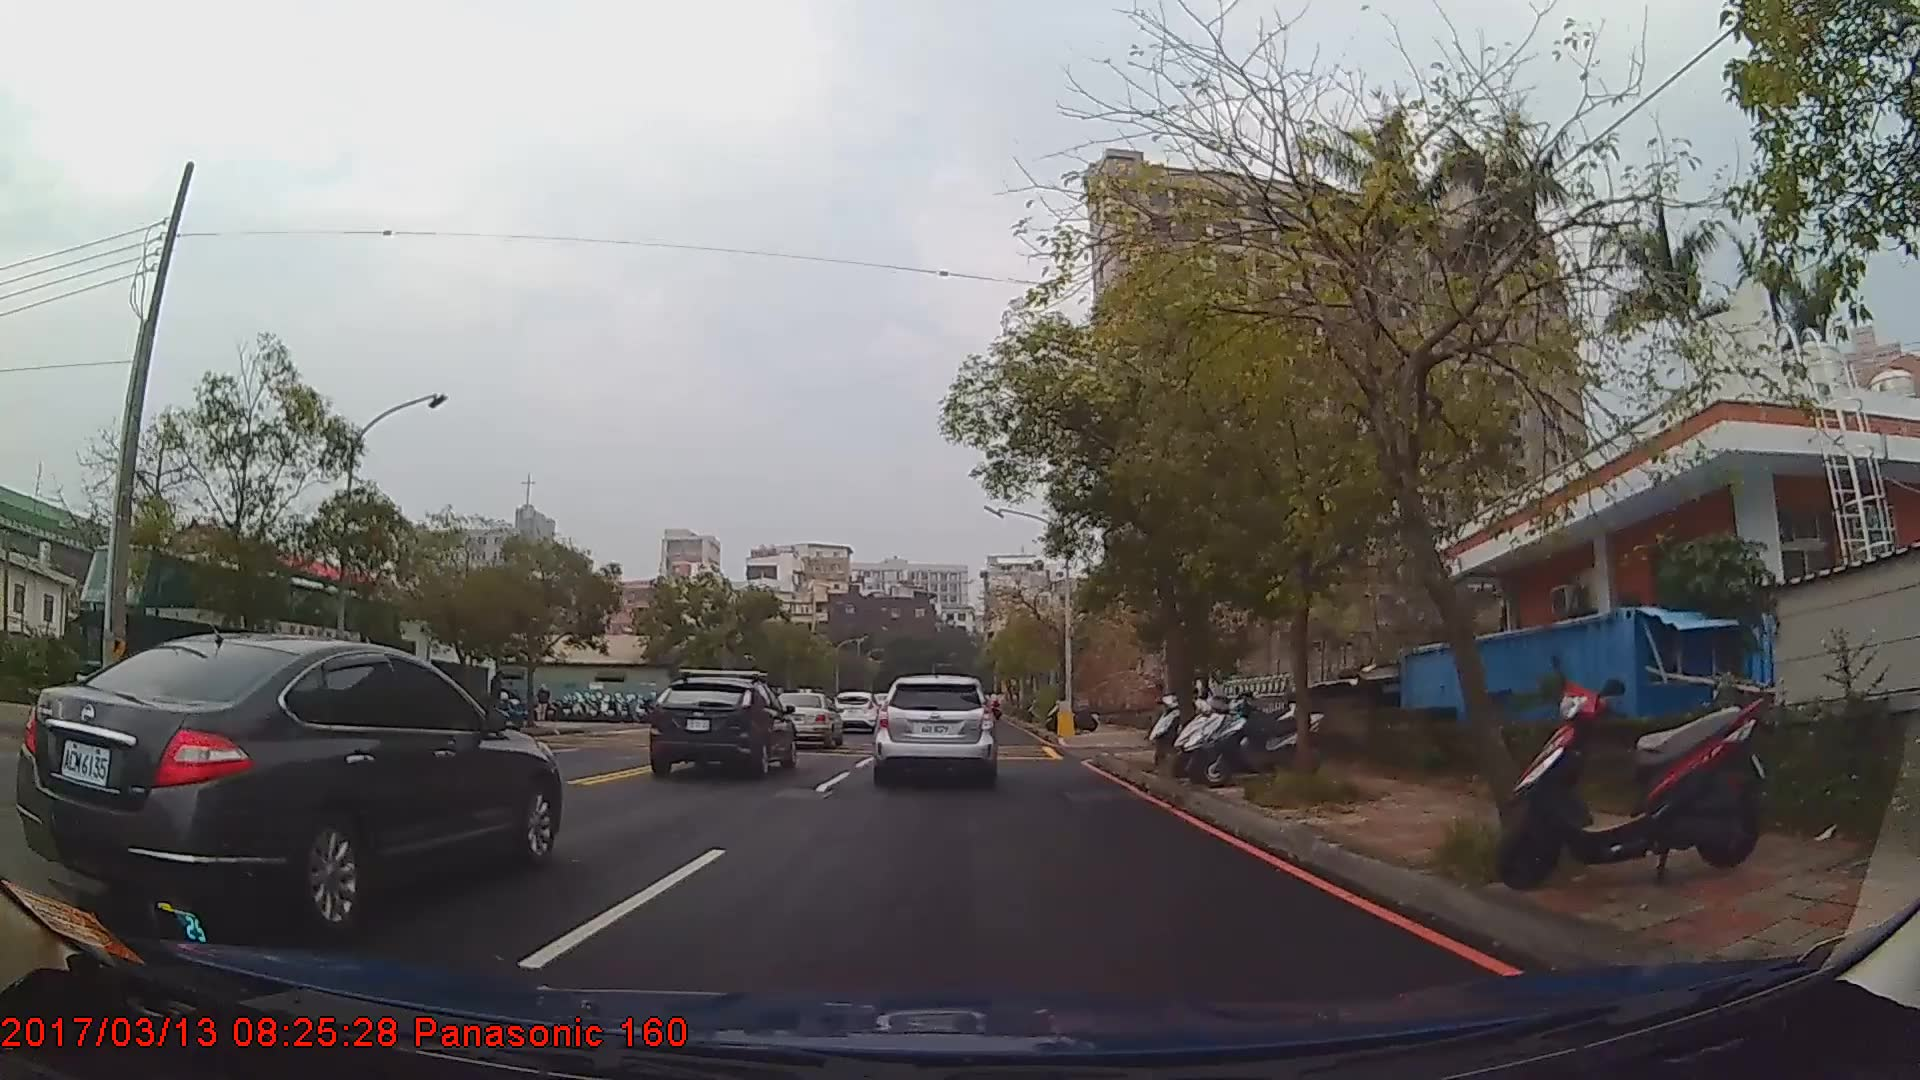vehicle: (13, 629, 562, 934), (61, 537, 400, 746), (646, 673, 796, 779), (874, 673, 998, 786), (769, 688, 841, 749), (829, 688, 880, 733)
